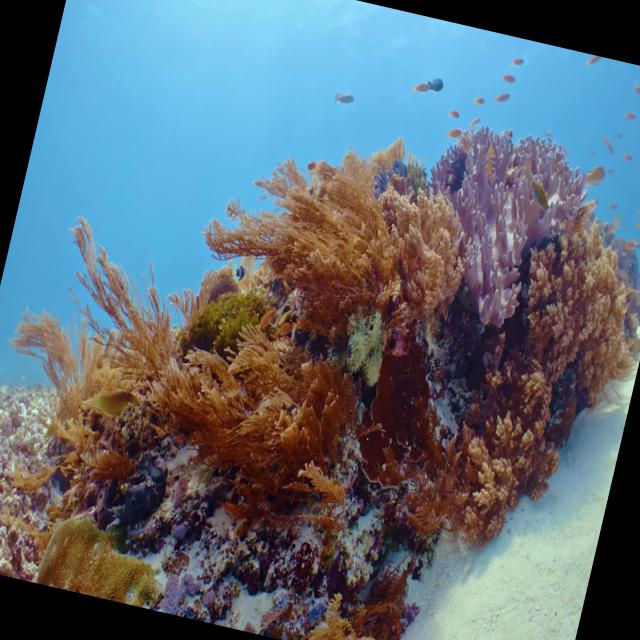fish: (578, 152, 614, 193), (410, 70, 452, 105), (326, 80, 362, 114)
